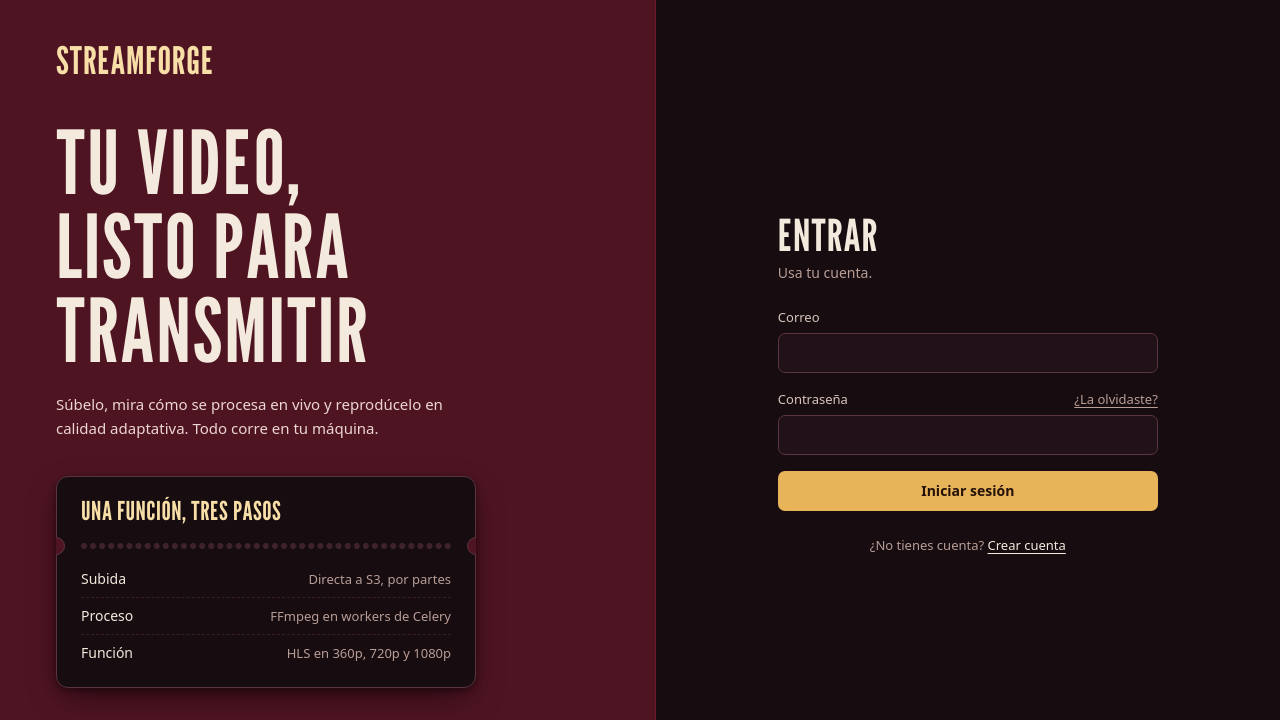
Test: LoginPage › shows why a login failed
Type "ana@example.com" into the field labelled "Correo".
click(968, 353); type("ana@example.com")  # box [778, 333, 1158, 373]
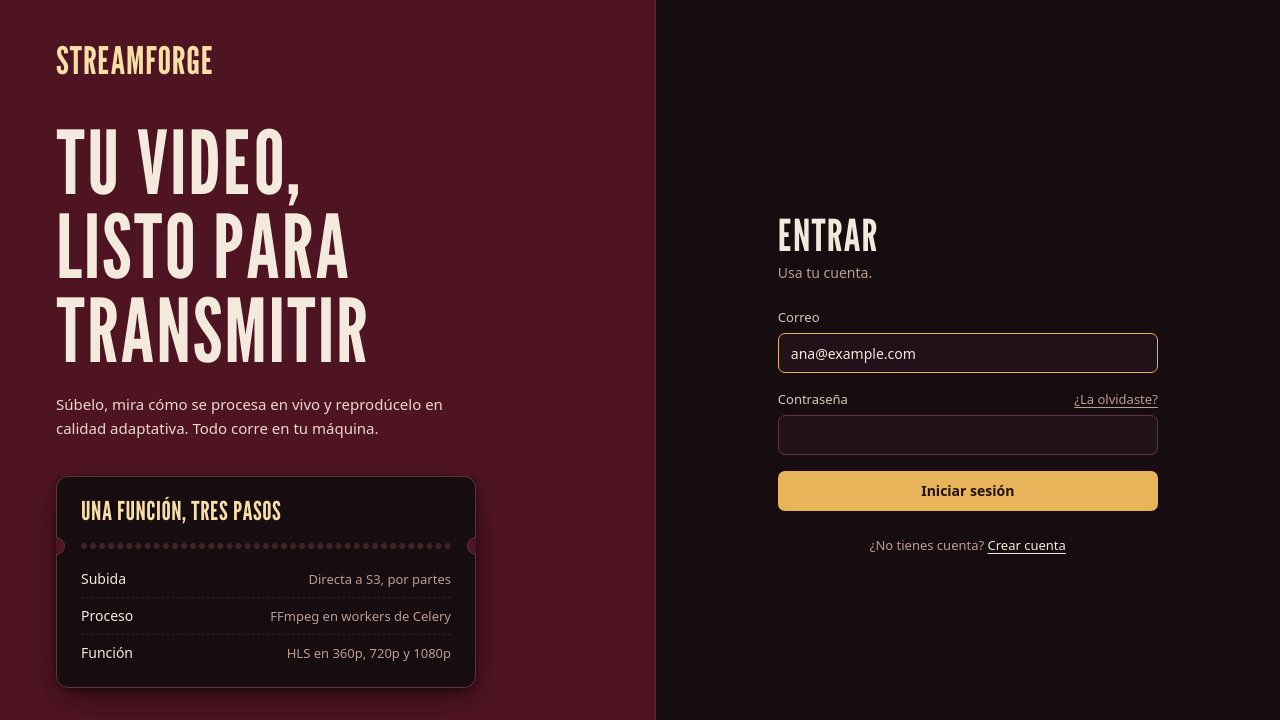
Type "wrong-password" into the password field labelled "Contraseña".
click(968, 435); type("wrong-password")  # box [778, 415, 1158, 455]
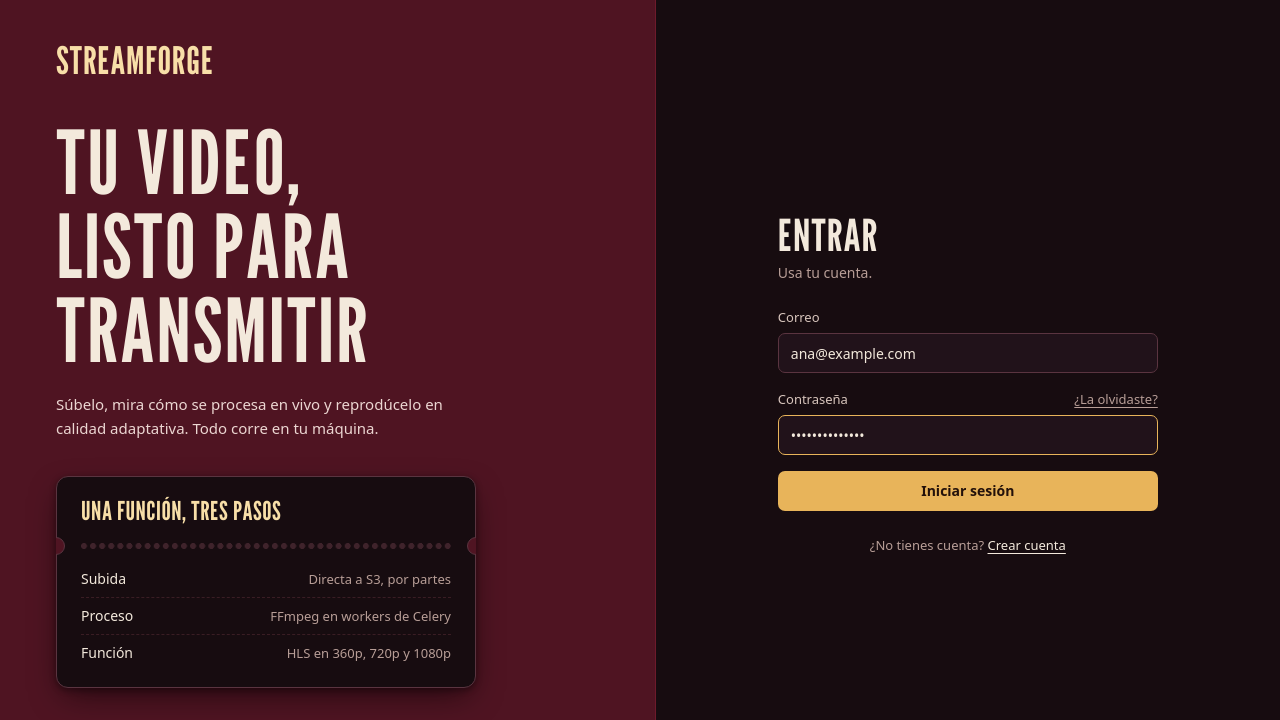
Click the button "Iniciar sesión".
click(968, 491)  # box [778, 471, 1158, 511]
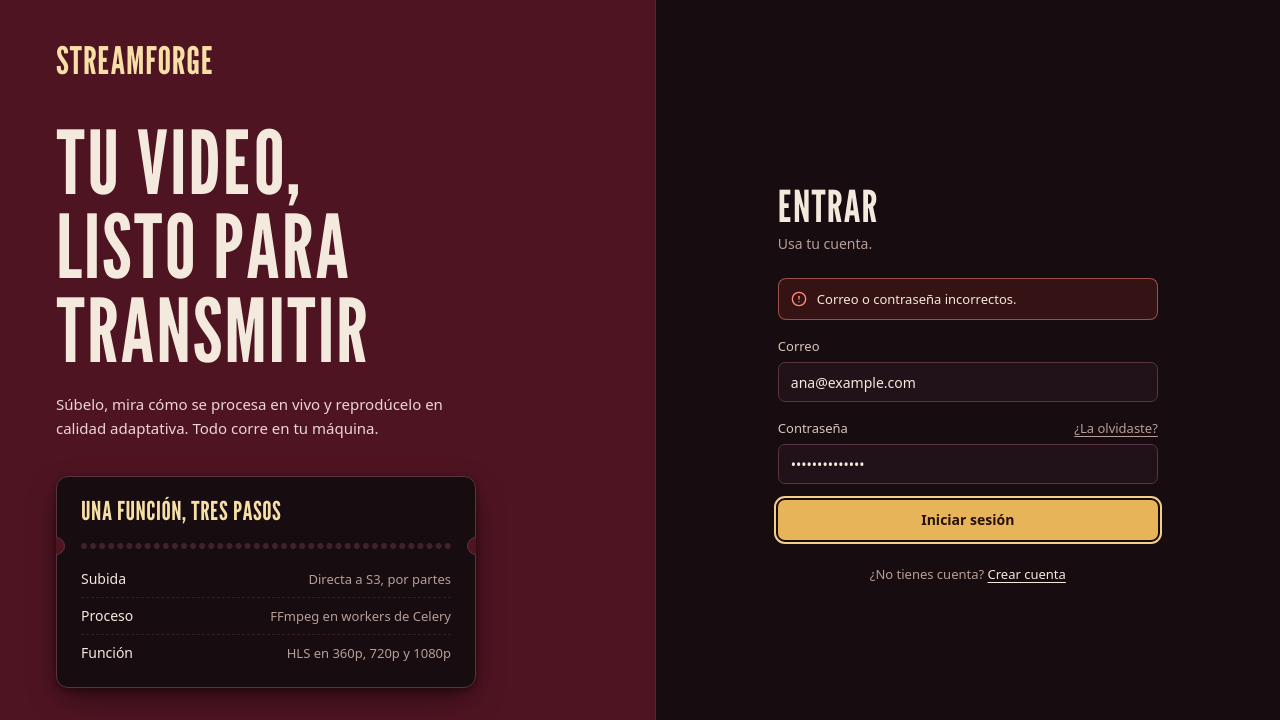
expect the message reads "Correo o contraseña incorrectos.": met, box [817, 290, 1016, 308]
